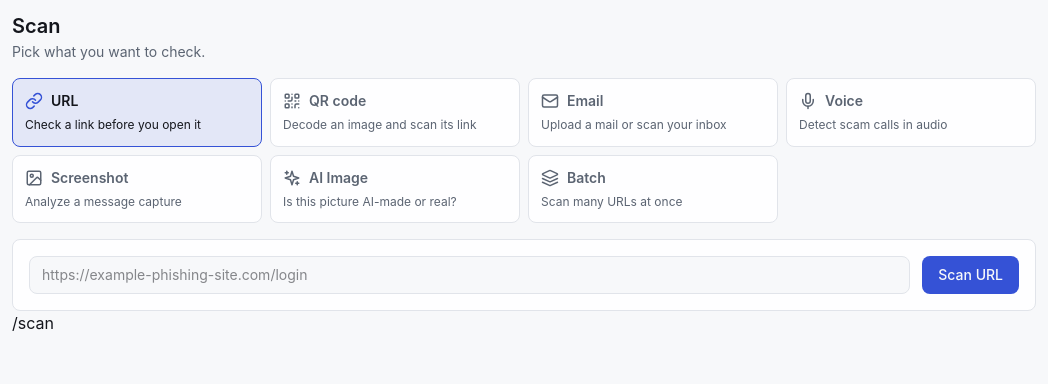
Test: a plain ApiError shows an error toast and an inline error line
This screenshot has width=1048, height=384.
Type "https://example.com" into the field named "url to scan" at (470, 275), box left=29, top=256, right=910, bottom=294
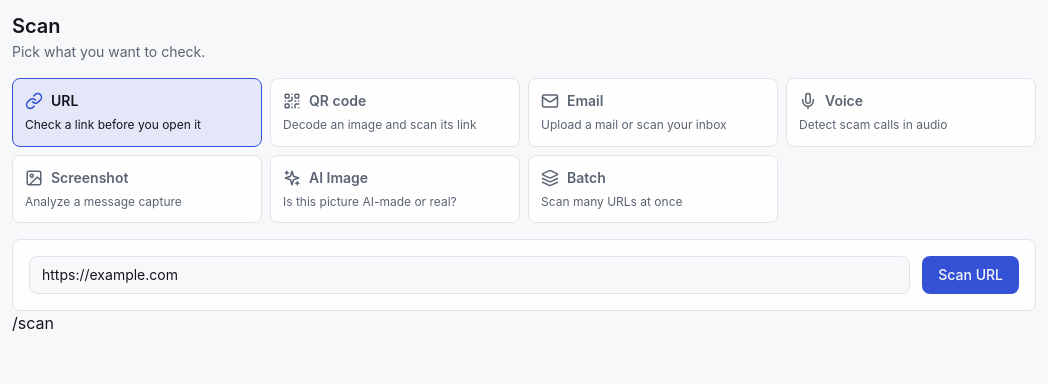
Click the button "Scan URL" at (971, 275), box left=922, top=256, right=1019, bottom=294
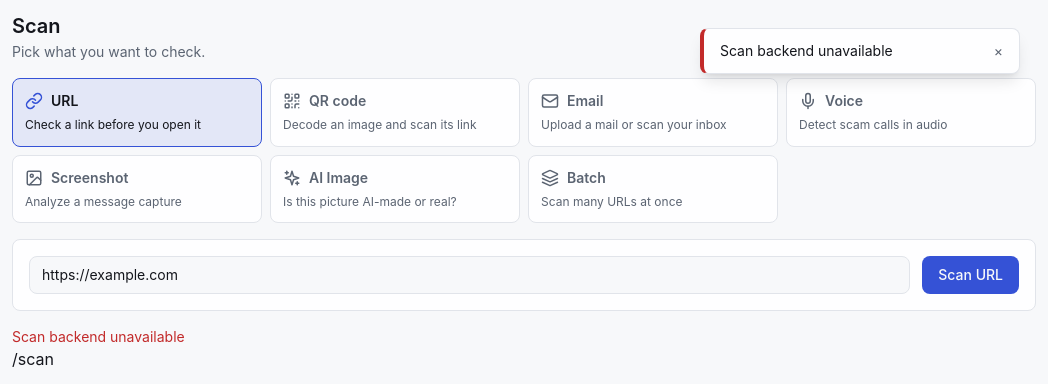
Result: the message shows "Scan backend unavailable" at left=720, top=42, right=893, bottom=59
Result: the text with test id "url-scan-error" reads "Scan backend unavailable" at left=12, top=328, right=185, bottom=345
